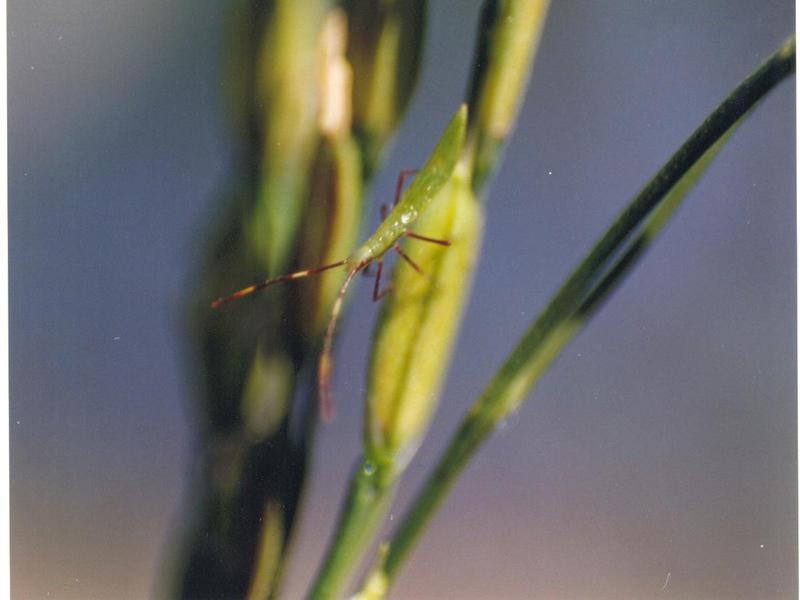Rice_earhead_bug: (292, 93, 514, 374)
